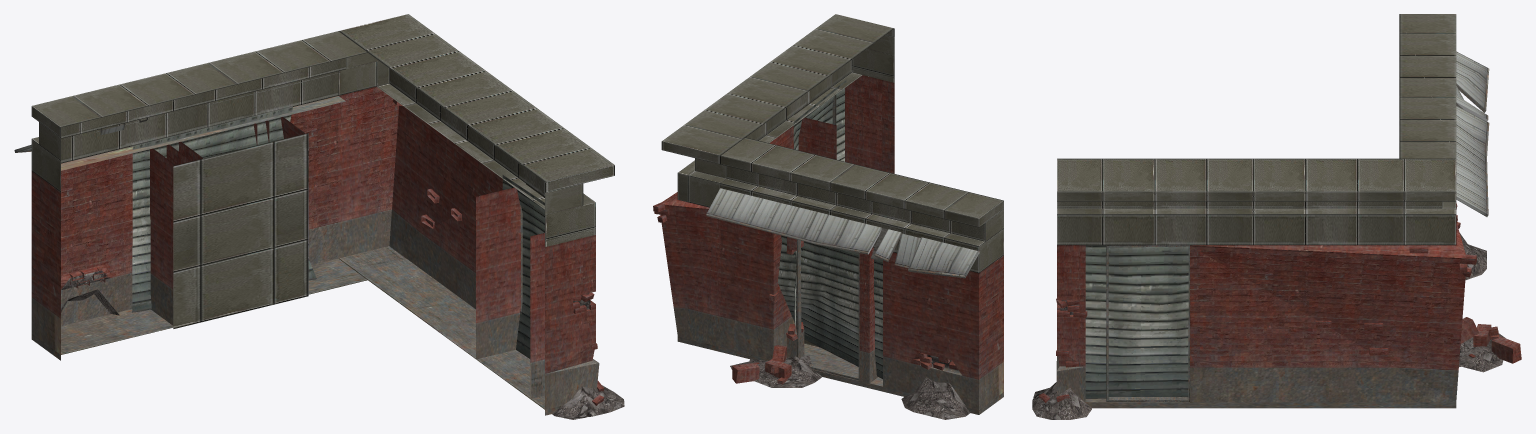
Rendered from Store_front_35.fbx.
3 renders of one model, left to right at view 1: azimuth 30°, elevation 25°; view 2: azimuth 150°, elevation 25°; view 3: azimuth 270°, elevation 25°, orthographic. The views are drawn at different scales.
Parts seen in each view (by area): view 1: Store_front_35; view 2: Store_front_35; view 3: Store_front_35.
Boxes of the visible parts, left/top/right/bottom form: Store_front_35: left=14, top=14, right=624, bottom=419; Store_front_35: left=653, top=14, right=1003, bottom=419; Store_front_35: left=1032, top=14, right=1521, bottom=419.
Bounding box in the file's own units: 749 × 436 × 858.
